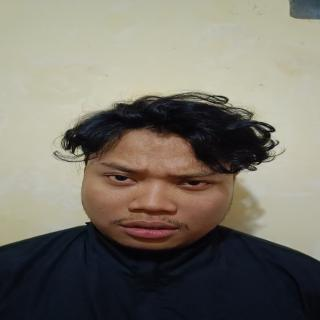Marah: (71, 120, 243, 250)
